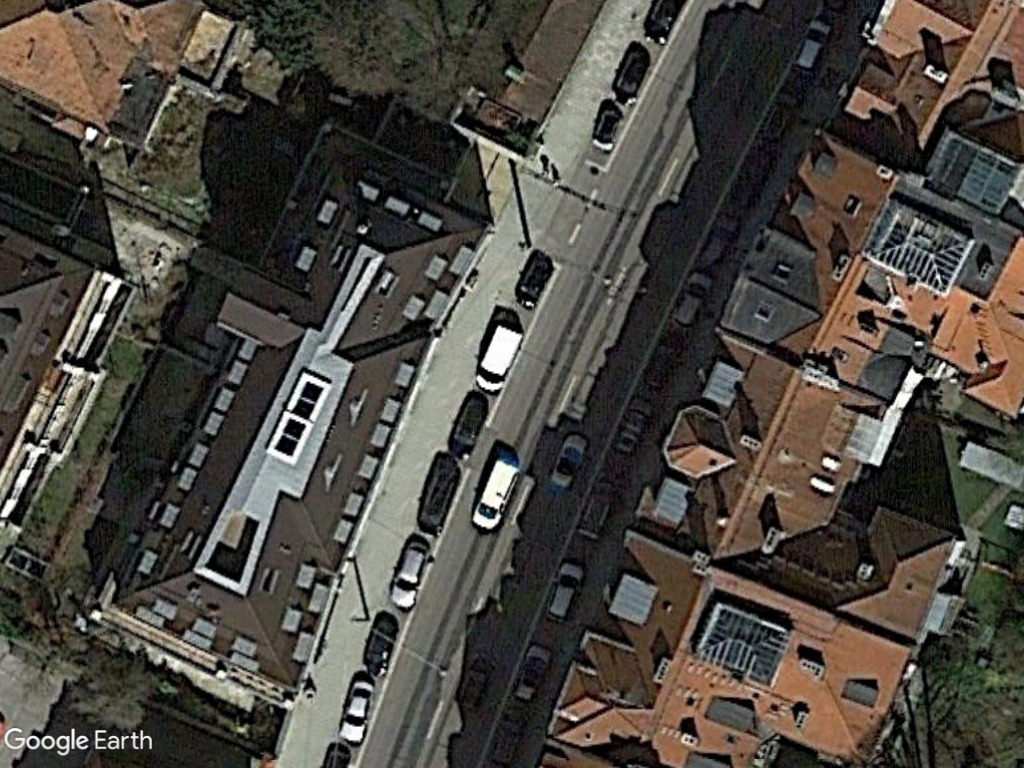car: (386, 541, 432, 614), (541, 557, 589, 625), (669, 269, 716, 333), (336, 677, 376, 747), (791, 16, 834, 79), (547, 430, 589, 492)
van: (471, 319, 525, 396), (467, 457, 520, 534)
